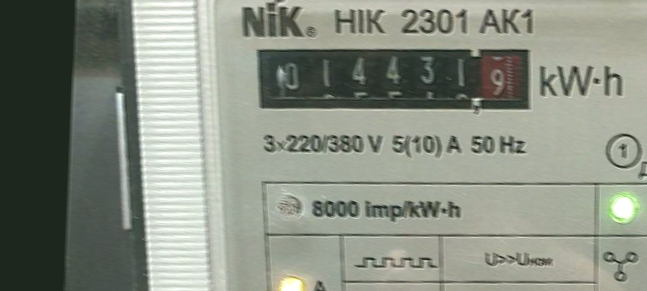0: (281, 57, 302, 91)
1: (317, 54, 336, 88), (454, 55, 468, 87)
3: (417, 53, 438, 86)
4: (348, 52, 370, 86), (383, 51, 403, 85)
9: (488, 64, 506, 96)
screen: (247, 29, 545, 127)
